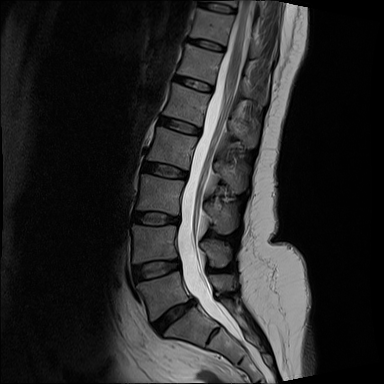Lumbar Disc Bulge (LDB): (146, 293, 203, 340)
Normal IVD: (129, 250, 185, 287), (150, 110, 205, 139), (137, 156, 192, 185), (127, 208, 187, 229), (169, 73, 216, 97), (184, 32, 229, 56)
Spinal Stenosis (SS): (186, 292, 201, 313)
